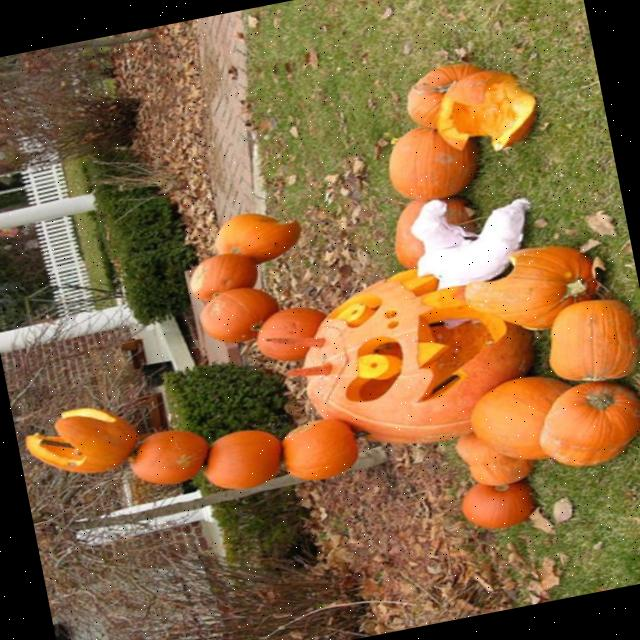pumpkin: (273, 269, 534, 442), (464, 245, 596, 329), (539, 380, 640, 466), (471, 376, 570, 459), (436, 70, 535, 149), (25, 407, 136, 473), (549, 299, 639, 380), (389, 126, 478, 200), (407, 62, 480, 127), (204, 429, 281, 489), (281, 418, 356, 479), (215, 213, 301, 264), (200, 287, 278, 342), (131, 430, 209, 484), (457, 432, 534, 485), (257, 307, 325, 360), (463, 480, 536, 528), (189, 252, 258, 300), (396, 200, 426, 268), (444, 196, 476, 231)
